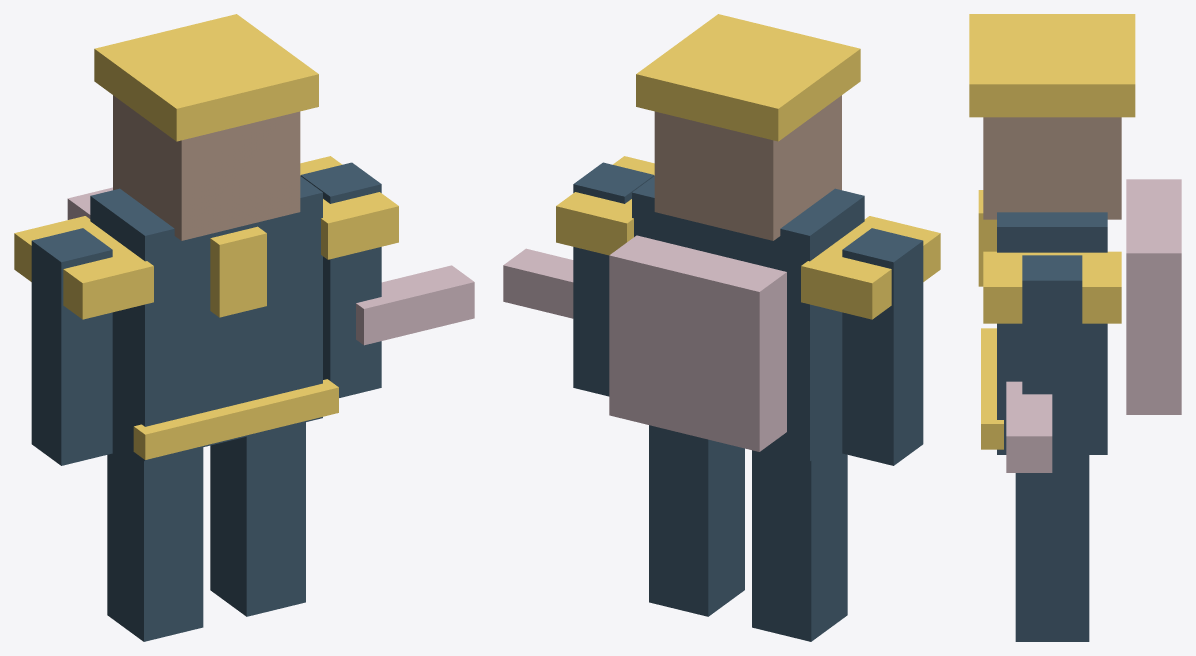
Rendered from 03_noor_frostrelay_cartographer_under_toll.glb.
The picture shows the model from 3 angles, left to right: view 1: azimuth 30°, elevation 25°; view 2: azimuth 150°, elevation 25°; view 3: azimuth 270°, elevation 25°; orthographic projection.
Parts seen in each view (by area): view 1: Noor Frostrelay, Cartographer under Toll; view 2: Noor Frostrelay, Cartographer under Toll; view 3: Noor Frostrelay, Cartographer under Toll.
Part boxes in pixels (<box>): Noor Frostrelay, Cartographer under Toll: <box>14,14,474,641</box>; Noor Frostrelay, Cartographer under Toll: <box>503,14,940,641</box>; Noor Frostrelay, Cartographer under Toll: <box>969,14,1181,641</box>.
Size of the model in its own units: 1.07 by 1.39 by 0.4821.
